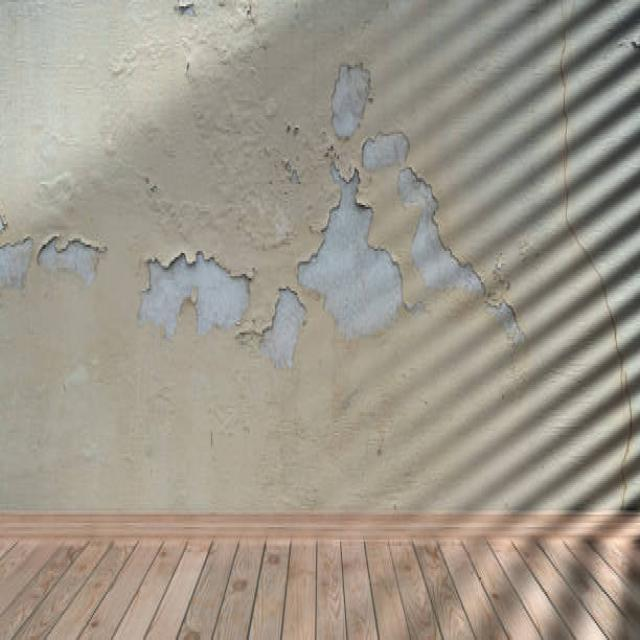Crack: (556, 13, 639, 508)
